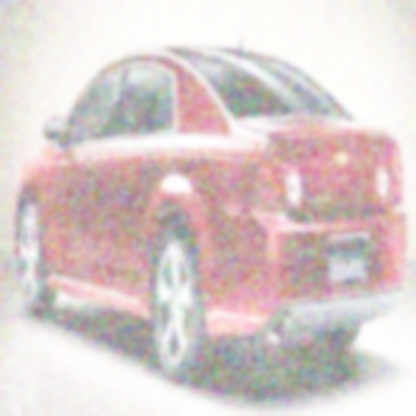Vehicle: (13, 43, 410, 384)
